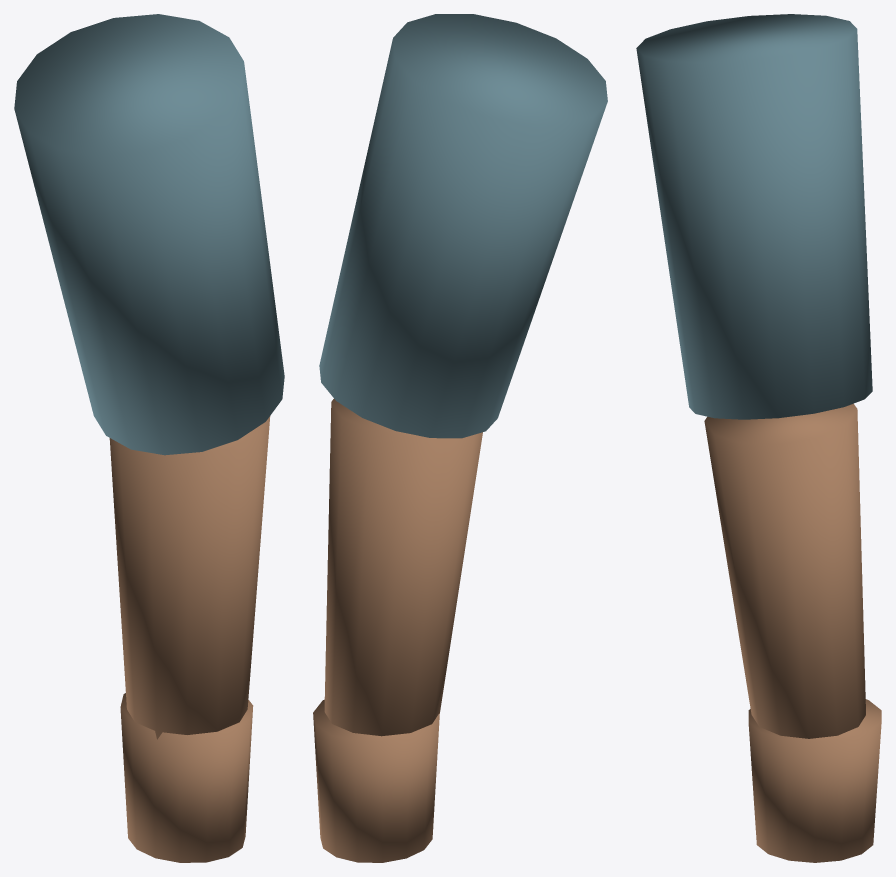
File: ped_arm.glb
The picture shows the model from 3 angles, left to right: view 1: azimuth 30°, elevation 25°; view 2: azimuth 150°, elevation 25°; view 3: azimuth 270°, elevation 25°; orthographic projection. The views are drawn at different scales.
Visible parts, largest first — view 1: ped_arm; view 2: ped_arm; view 3: ped_arm.
Part boxes in pixels (bbox=[...]): ped_arm: bbox=[14, 14, 284, 862]; ped_arm: bbox=[313, 14, 607, 862]; ped_arm: bbox=[636, 14, 881, 862].
Bounding box in the file's own units: 0.1658 × 0.5061 × 0.1437.
